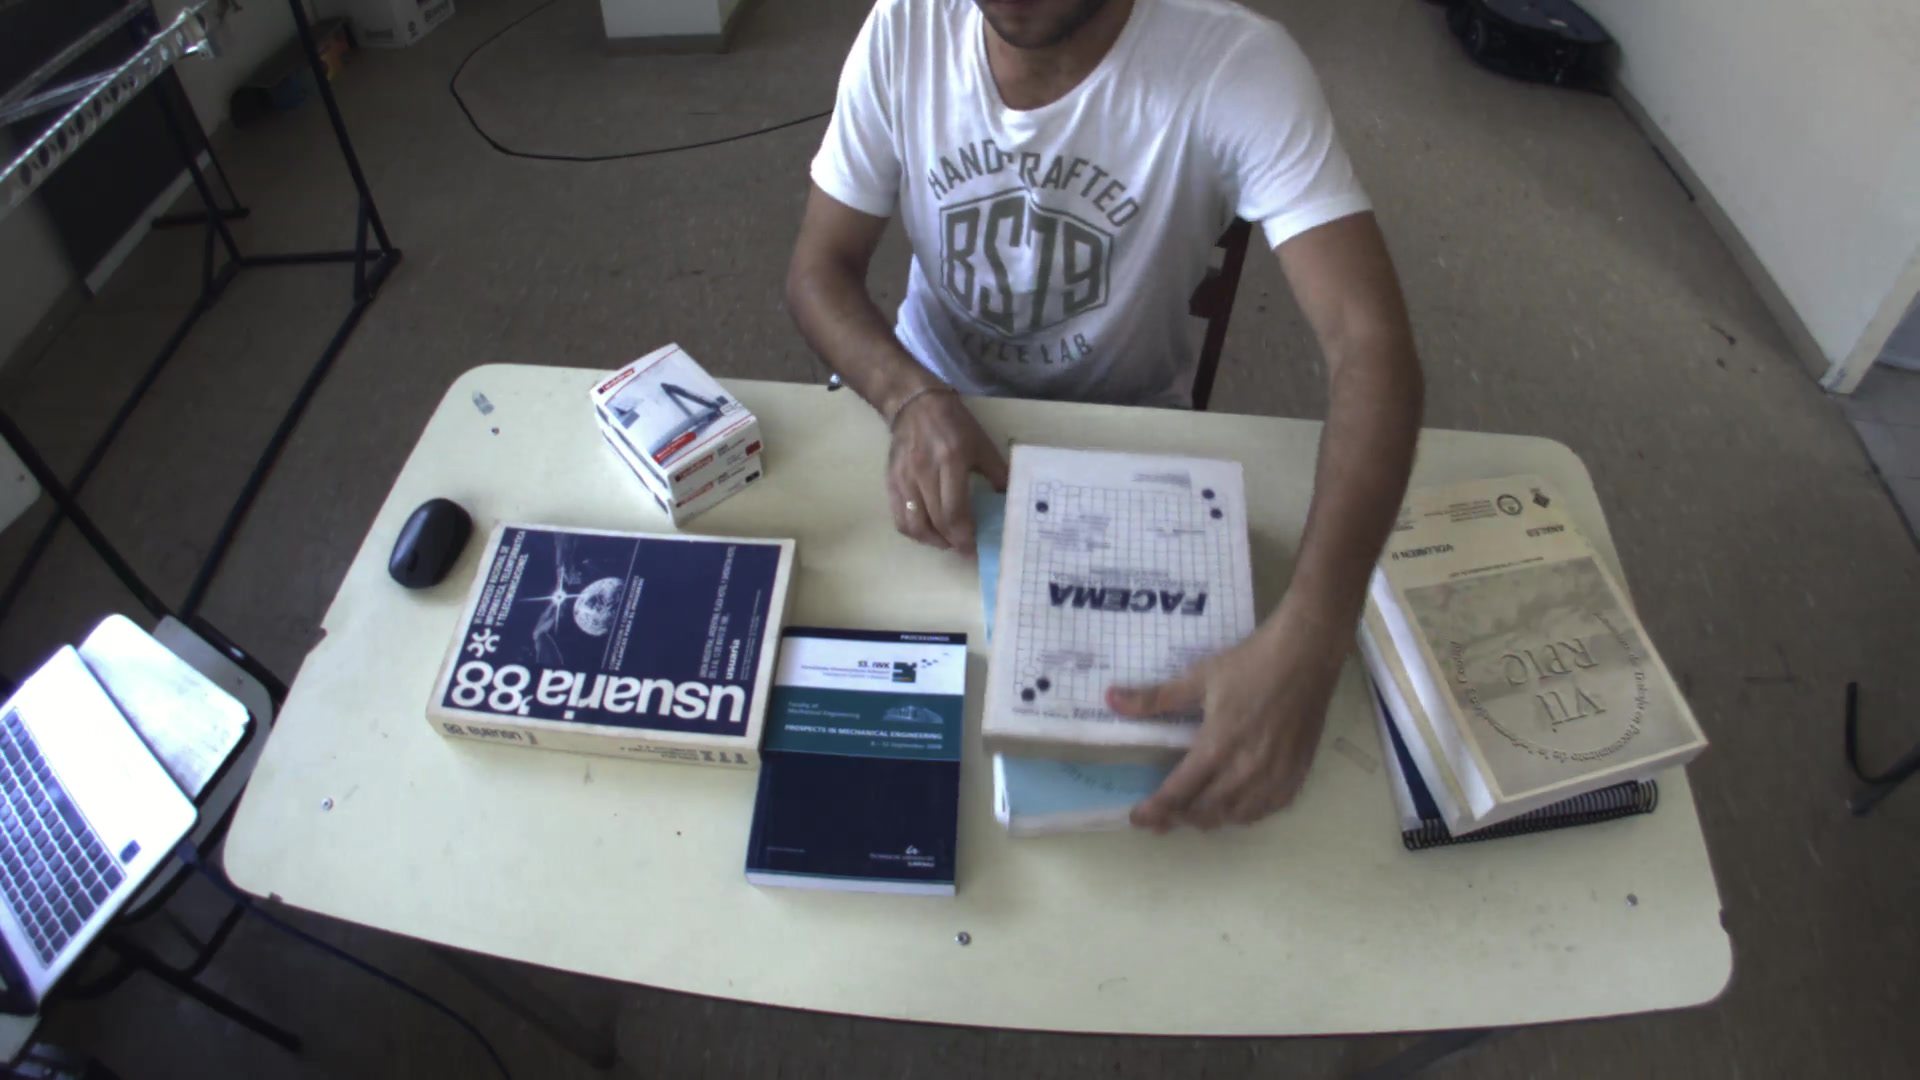hand: (1091, 634, 1346, 840), (869, 385, 1009, 553)
